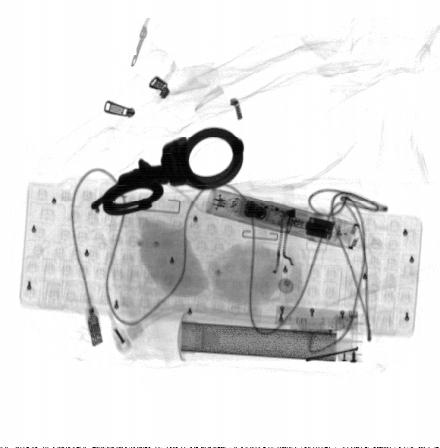Baton: (205, 187, 362, 252)
HandCuffs: (89, 125, 245, 217)
